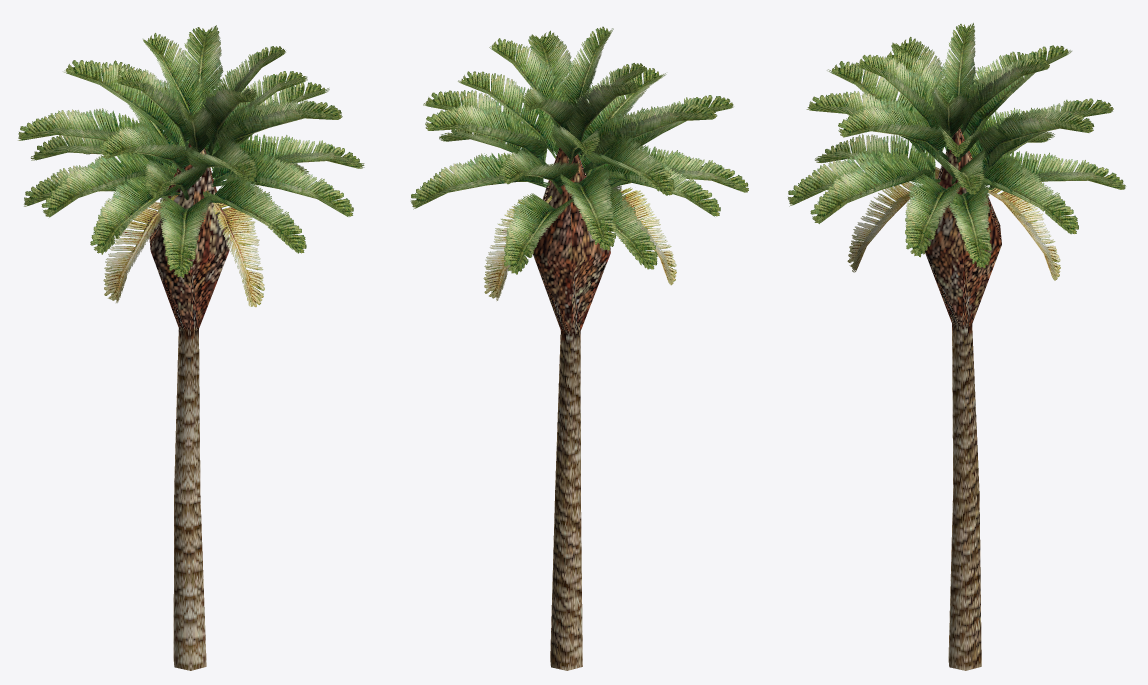
The model's file is flora_tree_cretan_date_palm_short_v4.glb.
The picture shows the model from 3 angles, left to right: view 1: azimuth 30°, elevation 25°; view 2: azimuth 150°, elevation 25°; view 3: azimuth 270°, elevation 25°; orthographic projection.
Visible parts, largest first — view 1: flora_tree_cretan_date_palm_short_v4_part0; view 2: flora_tree_cretan_date_palm_short_v4_part0; view 3: flora_tree_cretan_date_palm_short_v4_part0.
Part boxes in pixels (<box>): flora_tree_cretan_date_palm_short_v4_part0: <box>18,25,364,670</box>; flora_tree_cretan_date_palm_short_v4_part0: <box>410,26,748,670</box>; flora_tree_cretan_date_palm_short_v4_part0: <box>788,23,1125,670</box>.
Bounding box in the file's own units: 9.29 × 17.81 × 9.18.
1 material, 1 textured.
